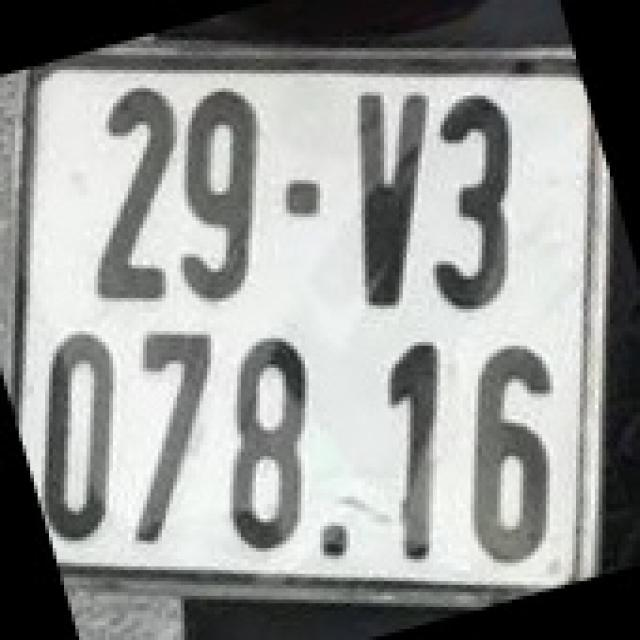0: (38, 331, 120, 541)
1: (380, 338, 448, 563)
2: (90, 85, 177, 302)
3: (433, 92, 516, 313)
6: (463, 342, 557, 567)
7: (132, 330, 215, 544)
8: (222, 331, 316, 552)
9: (176, 88, 264, 302)
V: (346, 88, 426, 306)
